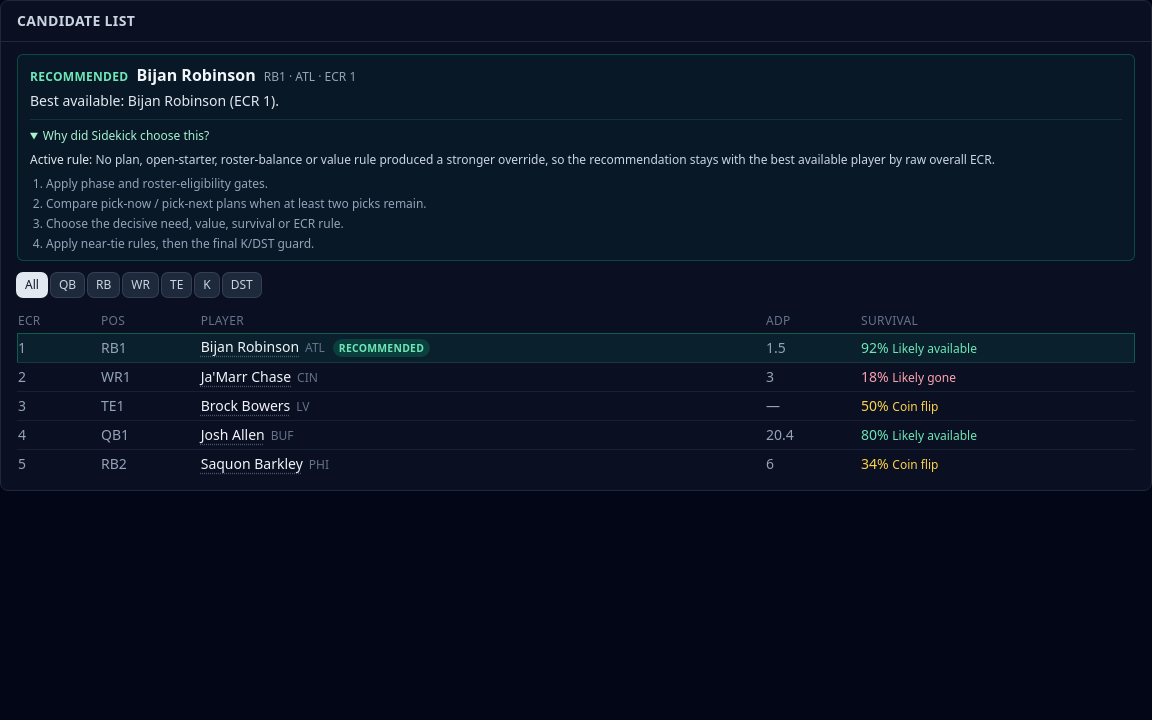
the position filter › states that a position carries no ranked players rather than showing an empty table
Click the button "K" at (207, 285), box [195,273,219,297]
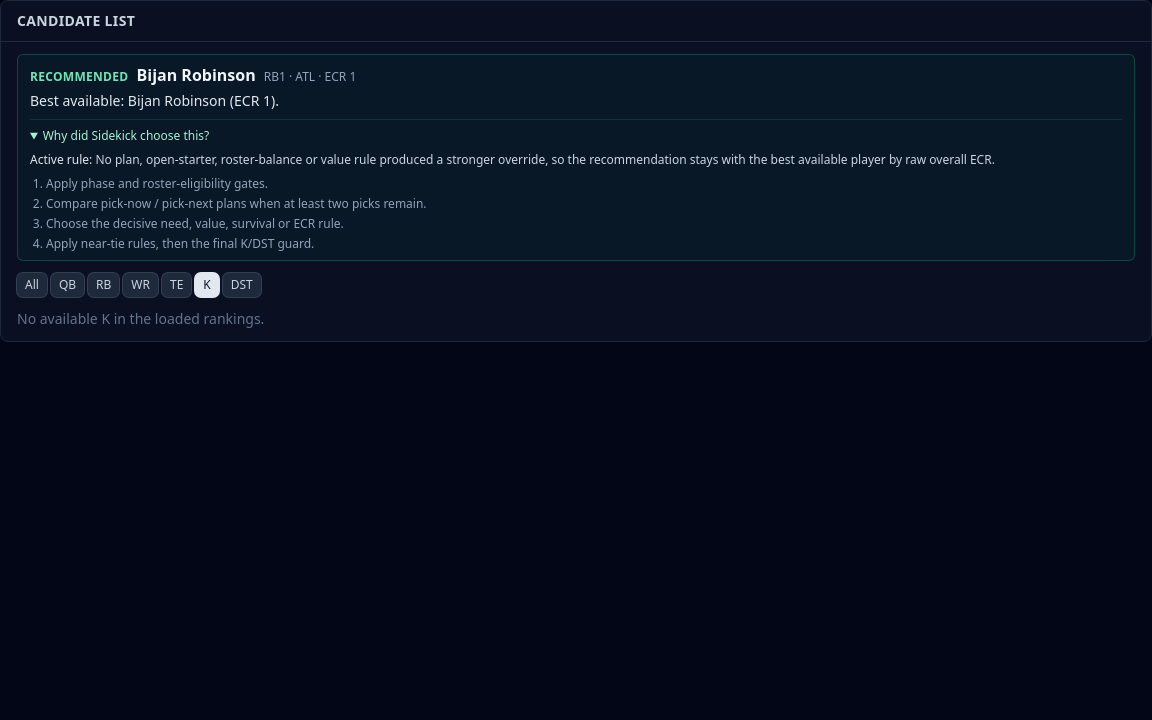
Expected: the table is gone
Expected: the text "No available K in the loaded rankings." is shown, [17,309,264,328]
